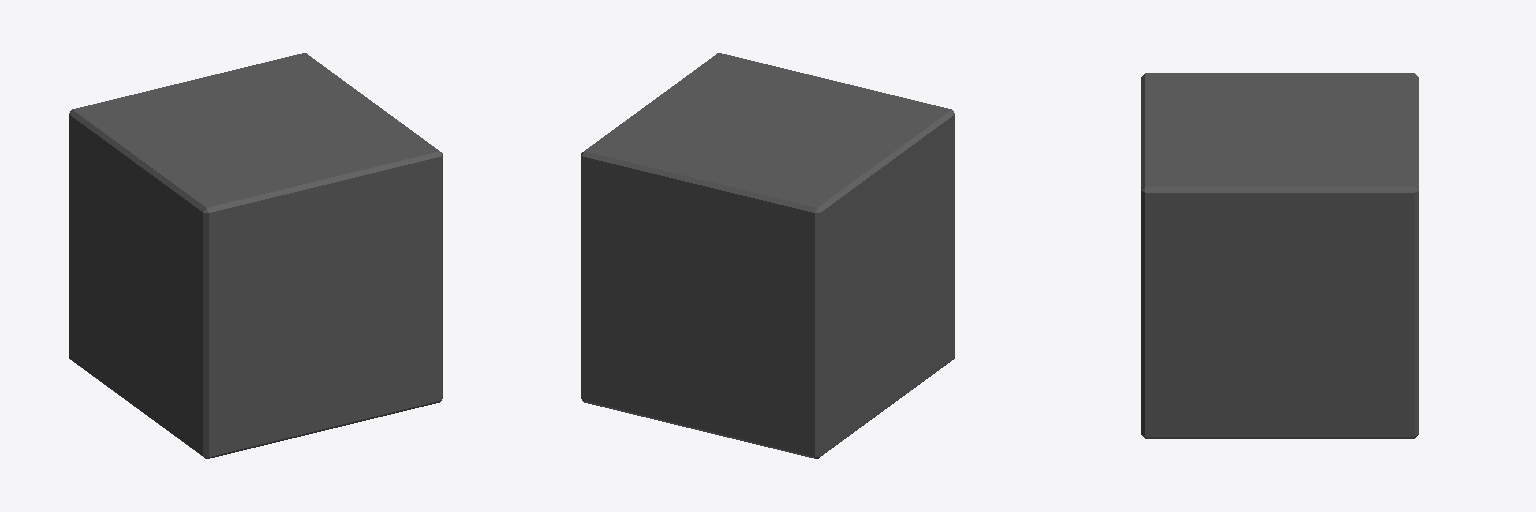
File: cardboard.obj
3 views of the same model, side by side, from view 1: azimuth 30°, elevation 25°; view 2: azimuth 150°, elevation 25°; view 3: azimuth 270°, elevation 25° (orthographic).
Bounding box in the file's own units: 0.3811 × 0.3811 × 0.3811.